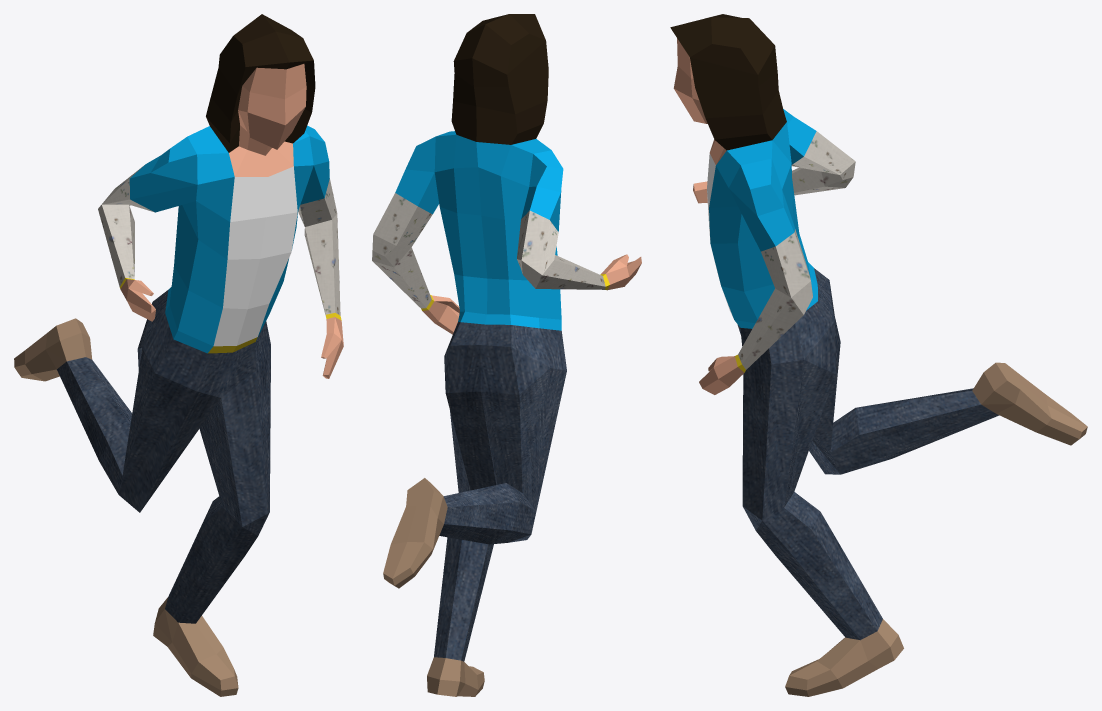
Rendered from SpringGirl.006.glb.
3 views of the same model, side by side, from view 1: azimuth 30°, elevation 25°; view 2: azimuth 150°, elevation 25°; view 3: azimuth 270°, elevation 25° (orthographic). The views are drawn at different scales.
Parts seen in each view (by area): view 1: SpringGirl.006; view 2: SpringGirl.006; view 3: SpringGirl.006.
Boxes of the visible parts, x1,y1,x2,y2 form: SpringGirl.006: (14, 14, 343, 696); SpringGirl.006: (372, 14, 641, 696); SpringGirl.006: (670, 14, 1087, 696).
Size of the model in its own units: 0.4305 by 1.18 by 0.6583.
Materials: 1 (1 with a texture image).
